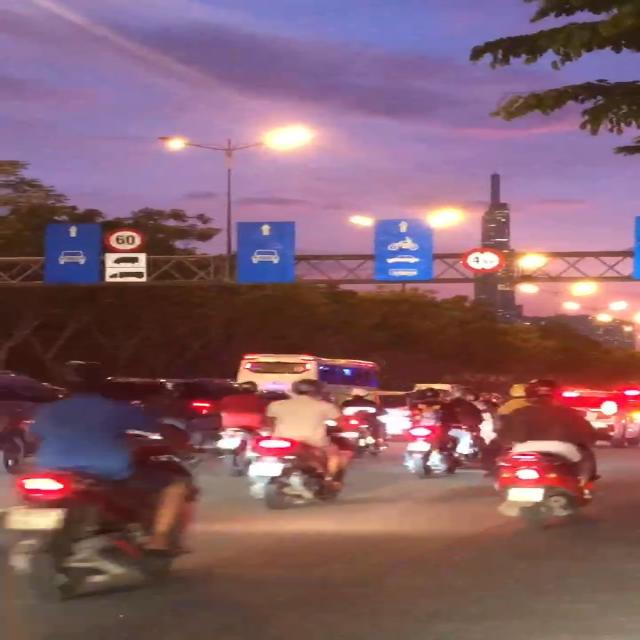Bien bao han che chieu cao: (460, 244, 508, 275)
Bien bao toc do toi da cho phep: (100, 220, 148, 255)
